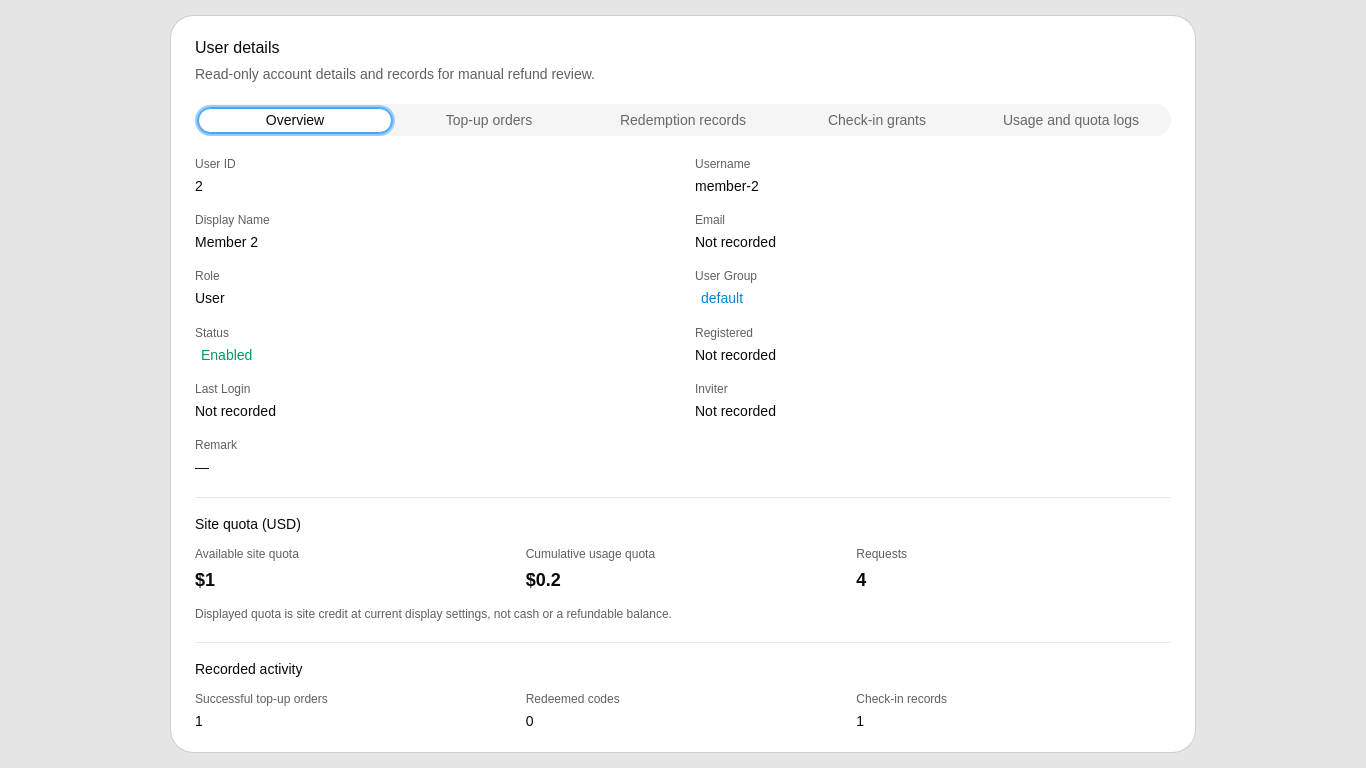
Test: orders keep stored payment amounts and unknown historical quota separate from a pending order quota snapshot
expect the text "member-2" is shown: met, box x1=695 y1=178 x2=759 y2=194
Click the tab "Top-up orders".
click(489, 120)  # box x1=392 y1=108 x2=586 y2=132
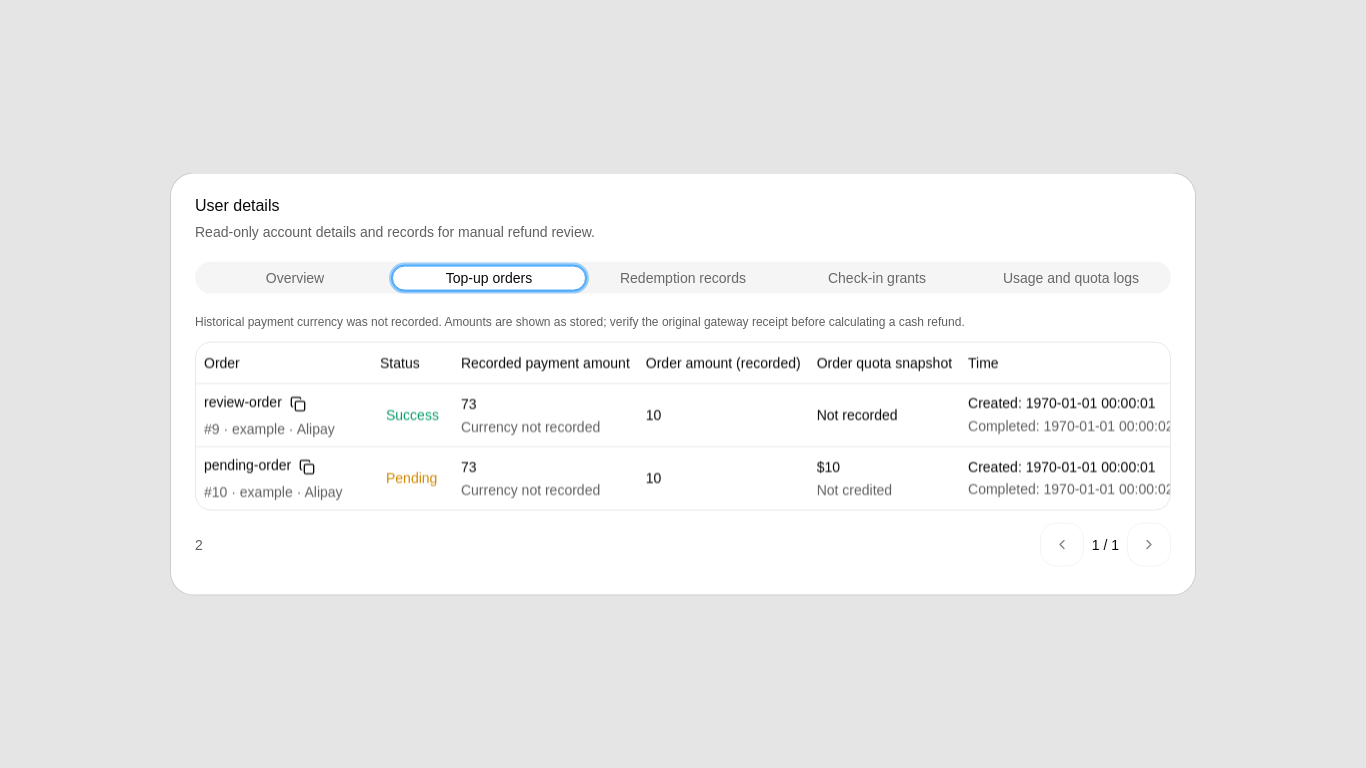
expect the text "73" in the row of "review-order" is shown: met, box x1=461 y1=395 x2=476 y2=411
expect the text "Currency not recorded" below "review-order" is shown: met, box x1=461 y1=418 x2=600 y2=434
expect the text "Not credited" is shown: met, box x1=817 y1=482 x2=892 y2=498
